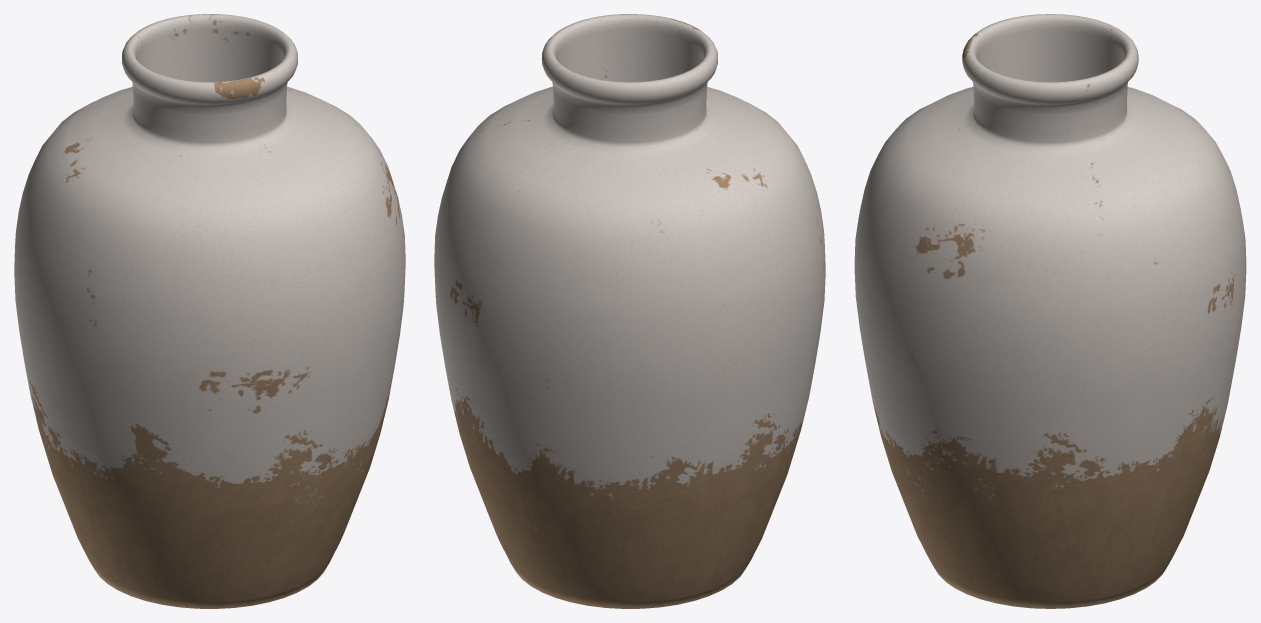
Rendered from B07B8NZQ68.glb.
3 renders of one model, left to right at view 1: azimuth 30°, elevation 25°; view 2: azimuth 150°, elevation 25°; view 3: azimuth 270°, elevation 25°, orthographic.
Visible parts, largest first — view 1: RootNode; view 2: RootNode; view 3: RootNode.
Boxes of the visible parts, <box> form: RootNode: <box>14,14,405,608</box>; RootNode: <box>434,14,825,608</box>; RootNode: <box>854,14,1246,608</box>.
Size of the model in its own units: 0.1584 by 0.2282 by 0.1584.
Materials: 1 (1 with a texture image).
